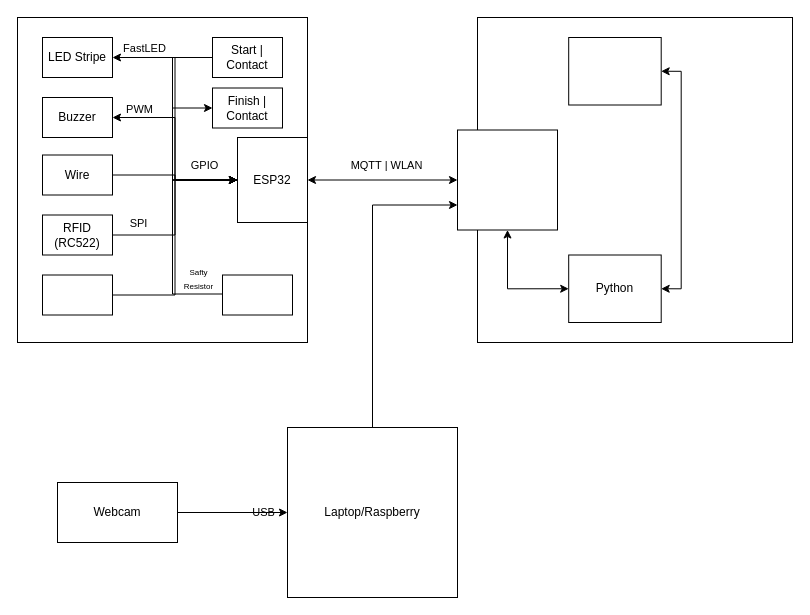
The diagram is 810 pixels wide and 615 high, and some of its shapes have lost their labels. The box of each missing label's shape, as (x1, y1, x2, y2) in pixels:
Button: (42, 274, 112, 315)
Laptop: (476, 16, 792, 342)
MQTT Broker: (456, 129, 558, 230)
Tracking LED: (222, 274, 292, 315)
Webpage: (568, 36, 661, 105)
